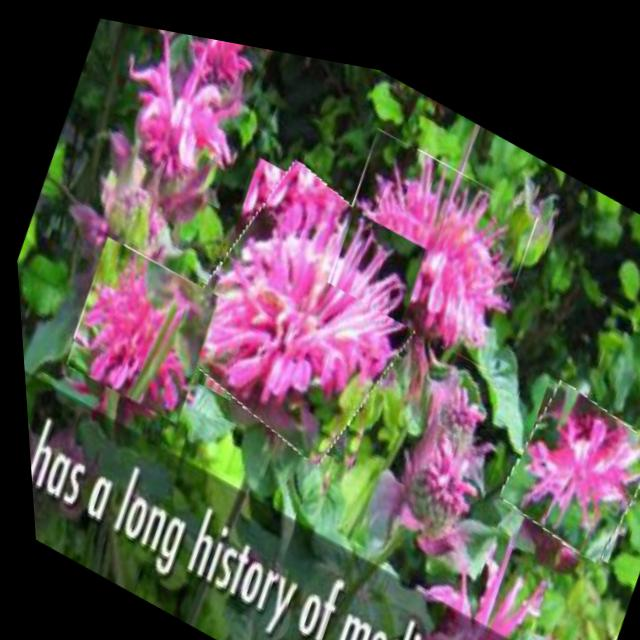Flower: (151, 119, 454, 485), (314, 104, 547, 364), (53, 226, 225, 430), (487, 347, 640, 557)
